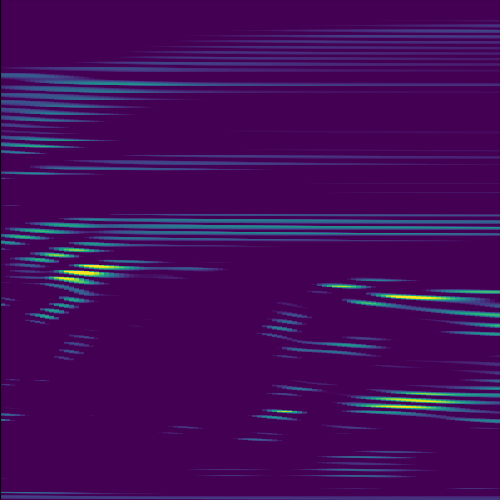semblance: (343, 389, 473, 416), (47, 262, 132, 288), (17, 247, 98, 264)
